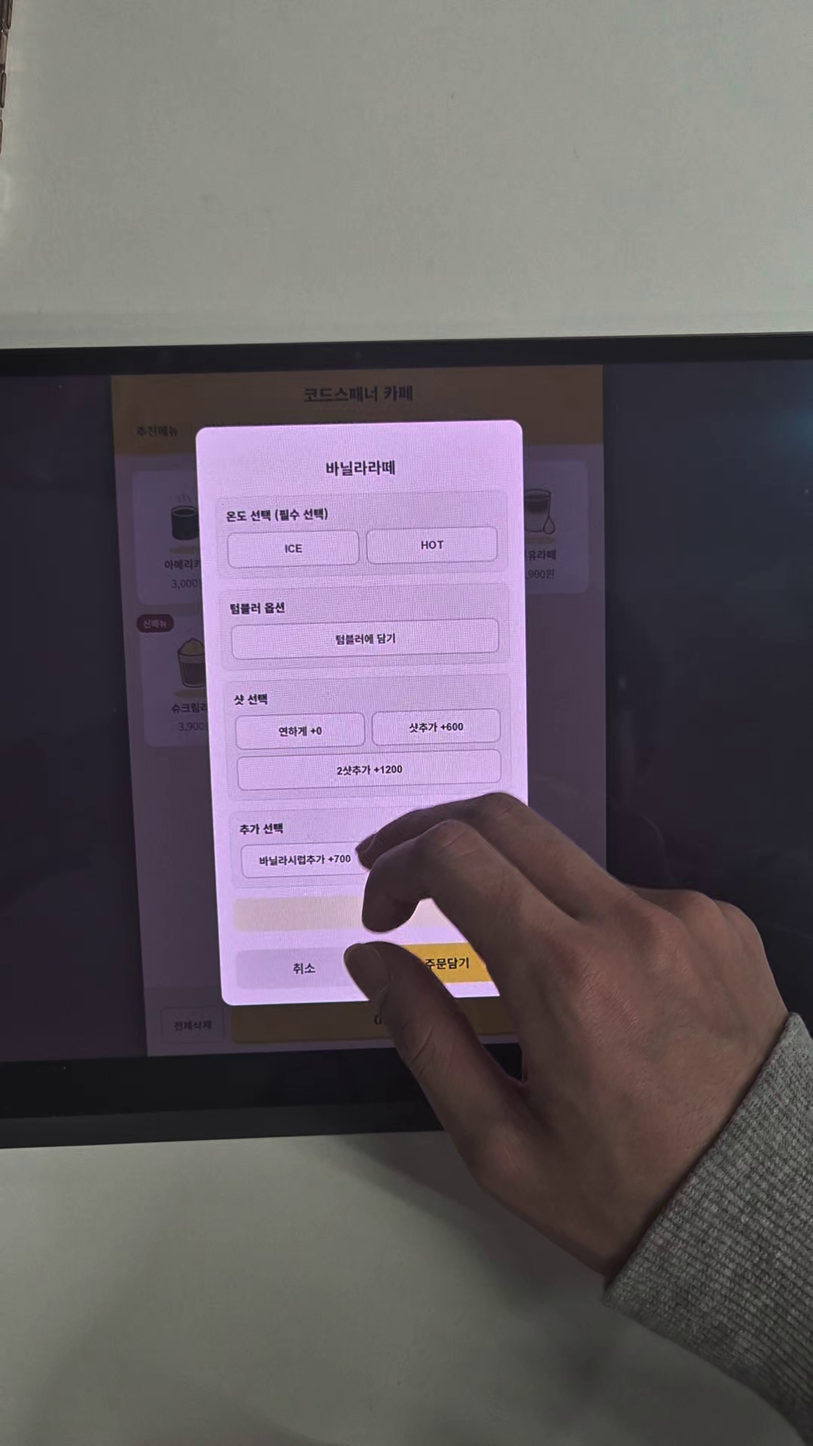action_button: (237, 948, 370, 988), (378, 945, 511, 985)
option_button: (232, 618, 499, 659), (236, 749, 504, 789), (228, 531, 358, 568), (368, 526, 498, 563), (234, 713, 364, 750), (372, 709, 502, 746), (243, 840, 373, 877)
popup_modal: (196, 419, 534, 1004)
